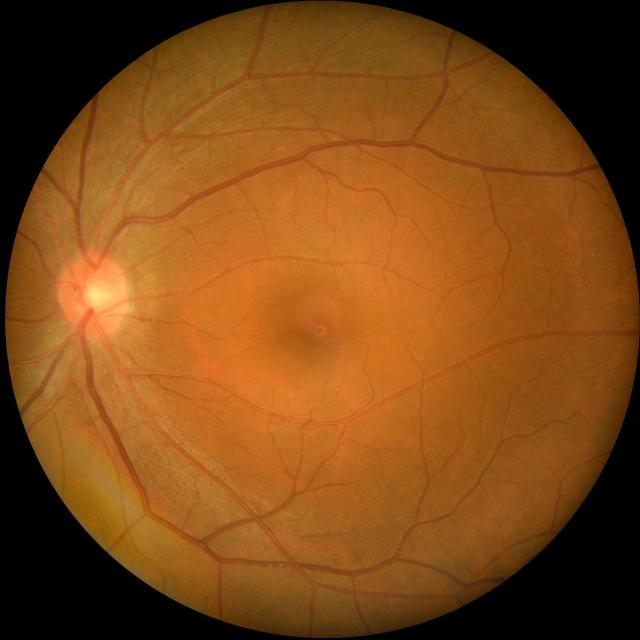OC: (80, 280, 112, 311)
OD: (57, 255, 128, 338)
